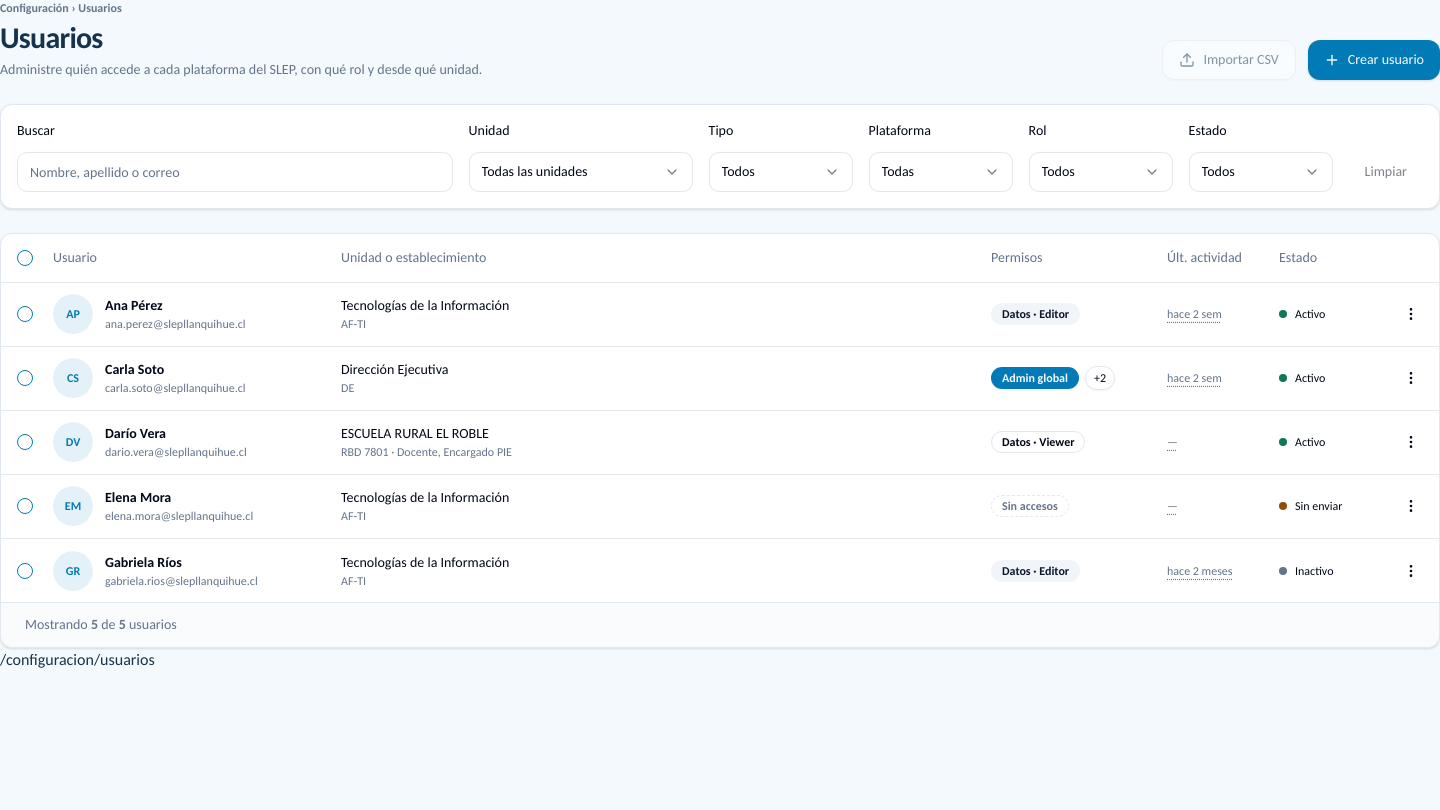
Scenario: FE08: lista de usuarios › FE08-D: «+2» abre el detalle con las tres plataformas
Expected: the text "Ana Pérez" is shown, [105, 297, 163, 314]
Click the button named "Ver los 3 permisos". click: x=1100, y=378
box: [1085, 366, 1115, 390]
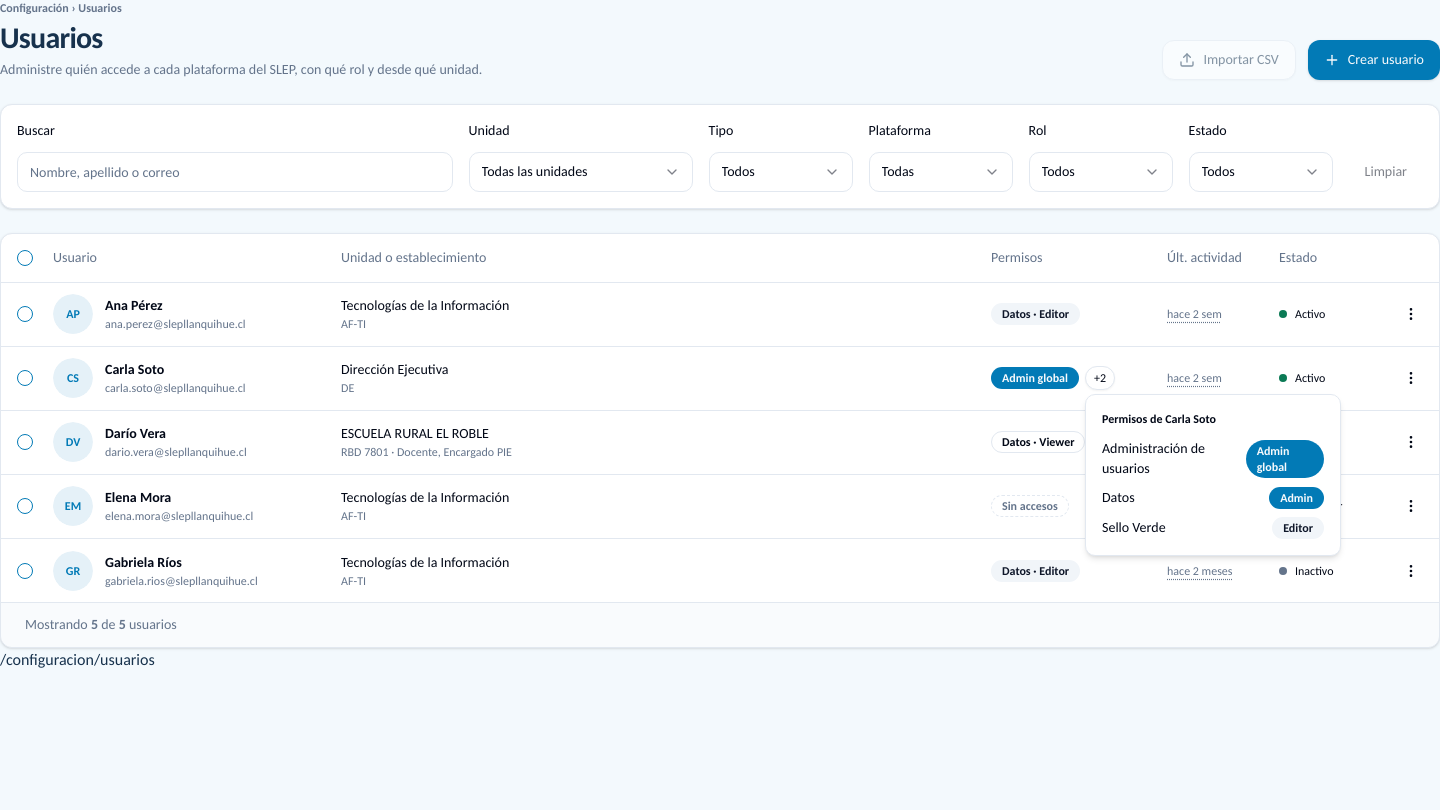
Now the number of list items is 3, box [1102, 439, 1324, 479]; [1102, 487, 1324, 509]; [1102, 517, 1324, 539]
Now the text "Sello Verde" is shown, box [1102, 518, 1166, 538]
